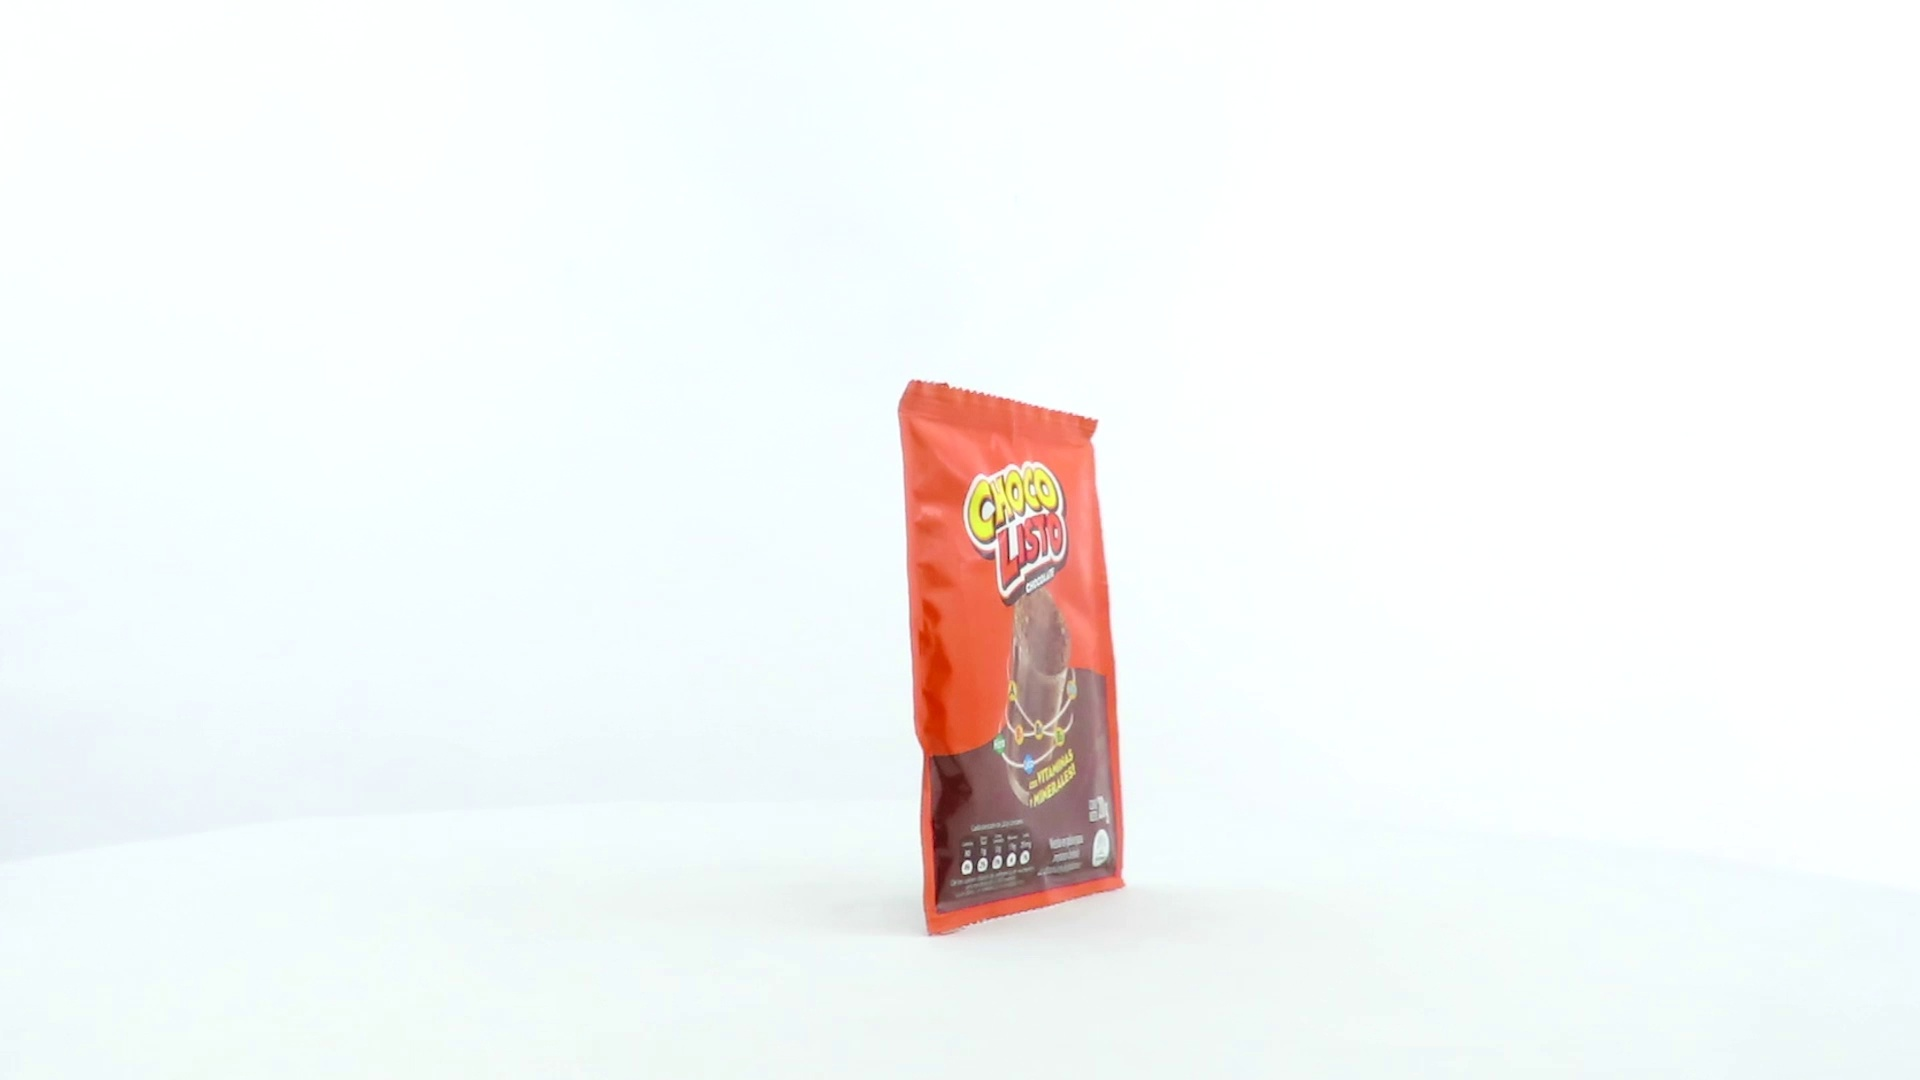COL0170103SOB02000: (825, 375, 1131, 944)
